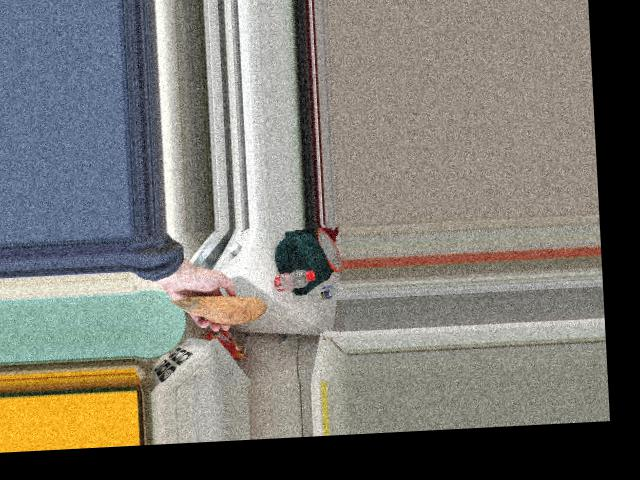sweet_potato: (177, 293, 258, 327)
